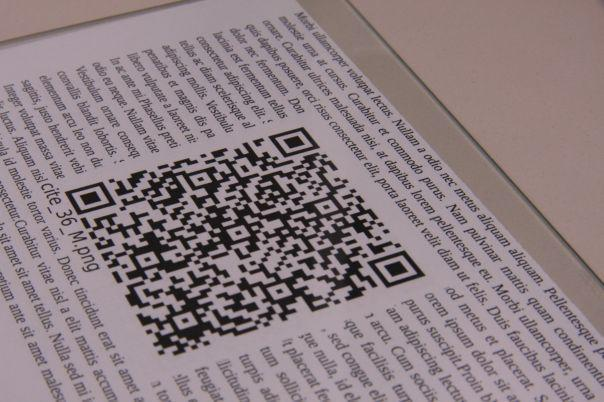qr_code: (65, 127, 426, 358)
